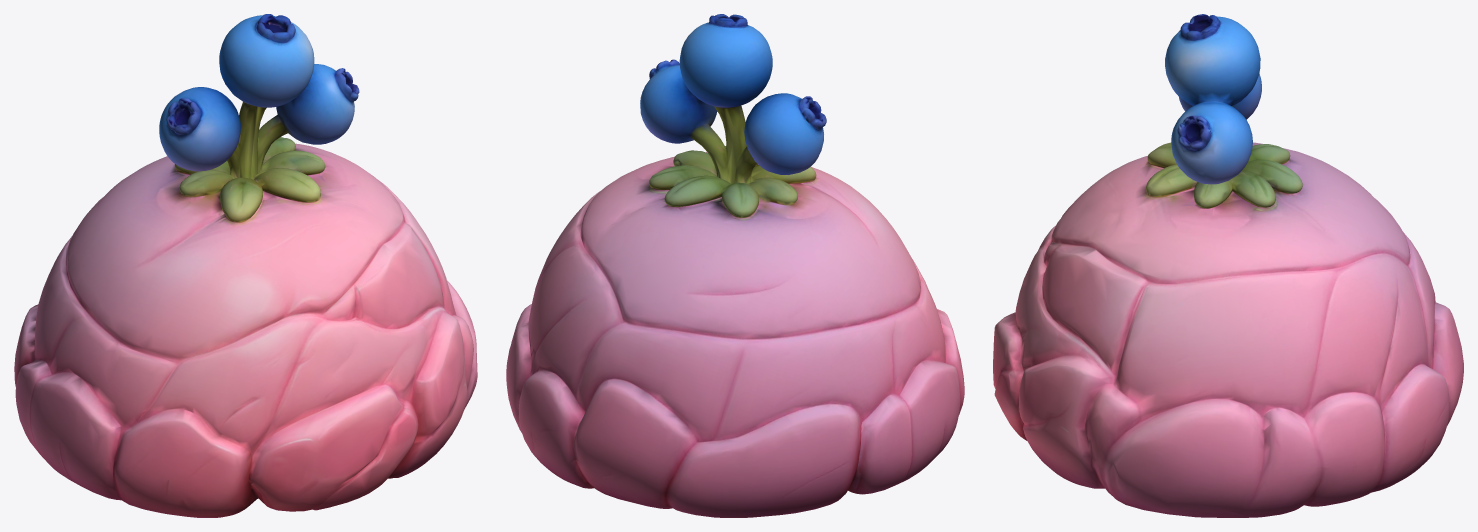
Rendered from pink_mound.glb.
3 views of the same model, side by side, from view 1: azimuth 30°, elevation 25°; view 2: azimuth 150°, elevation 25°; view 3: azimuth 270°, elevation 25° (orthographic). The views are drawn at different scales.
Visible parts, largest first — view 1: node_0; view 2: node_0; view 3: node_0.
Part boxes in pixels (left/top/right/bottom): node_0: left=14, top=14, right=477, bottom=517; node_0: left=506, top=14, right=964, bottom=517; node_0: left=993, top=14, right=1463, bottom=517.
Bounding box in the file's own units: 0.8842 × 0.8663 × 0.8786.
1 material, 1 textured.
